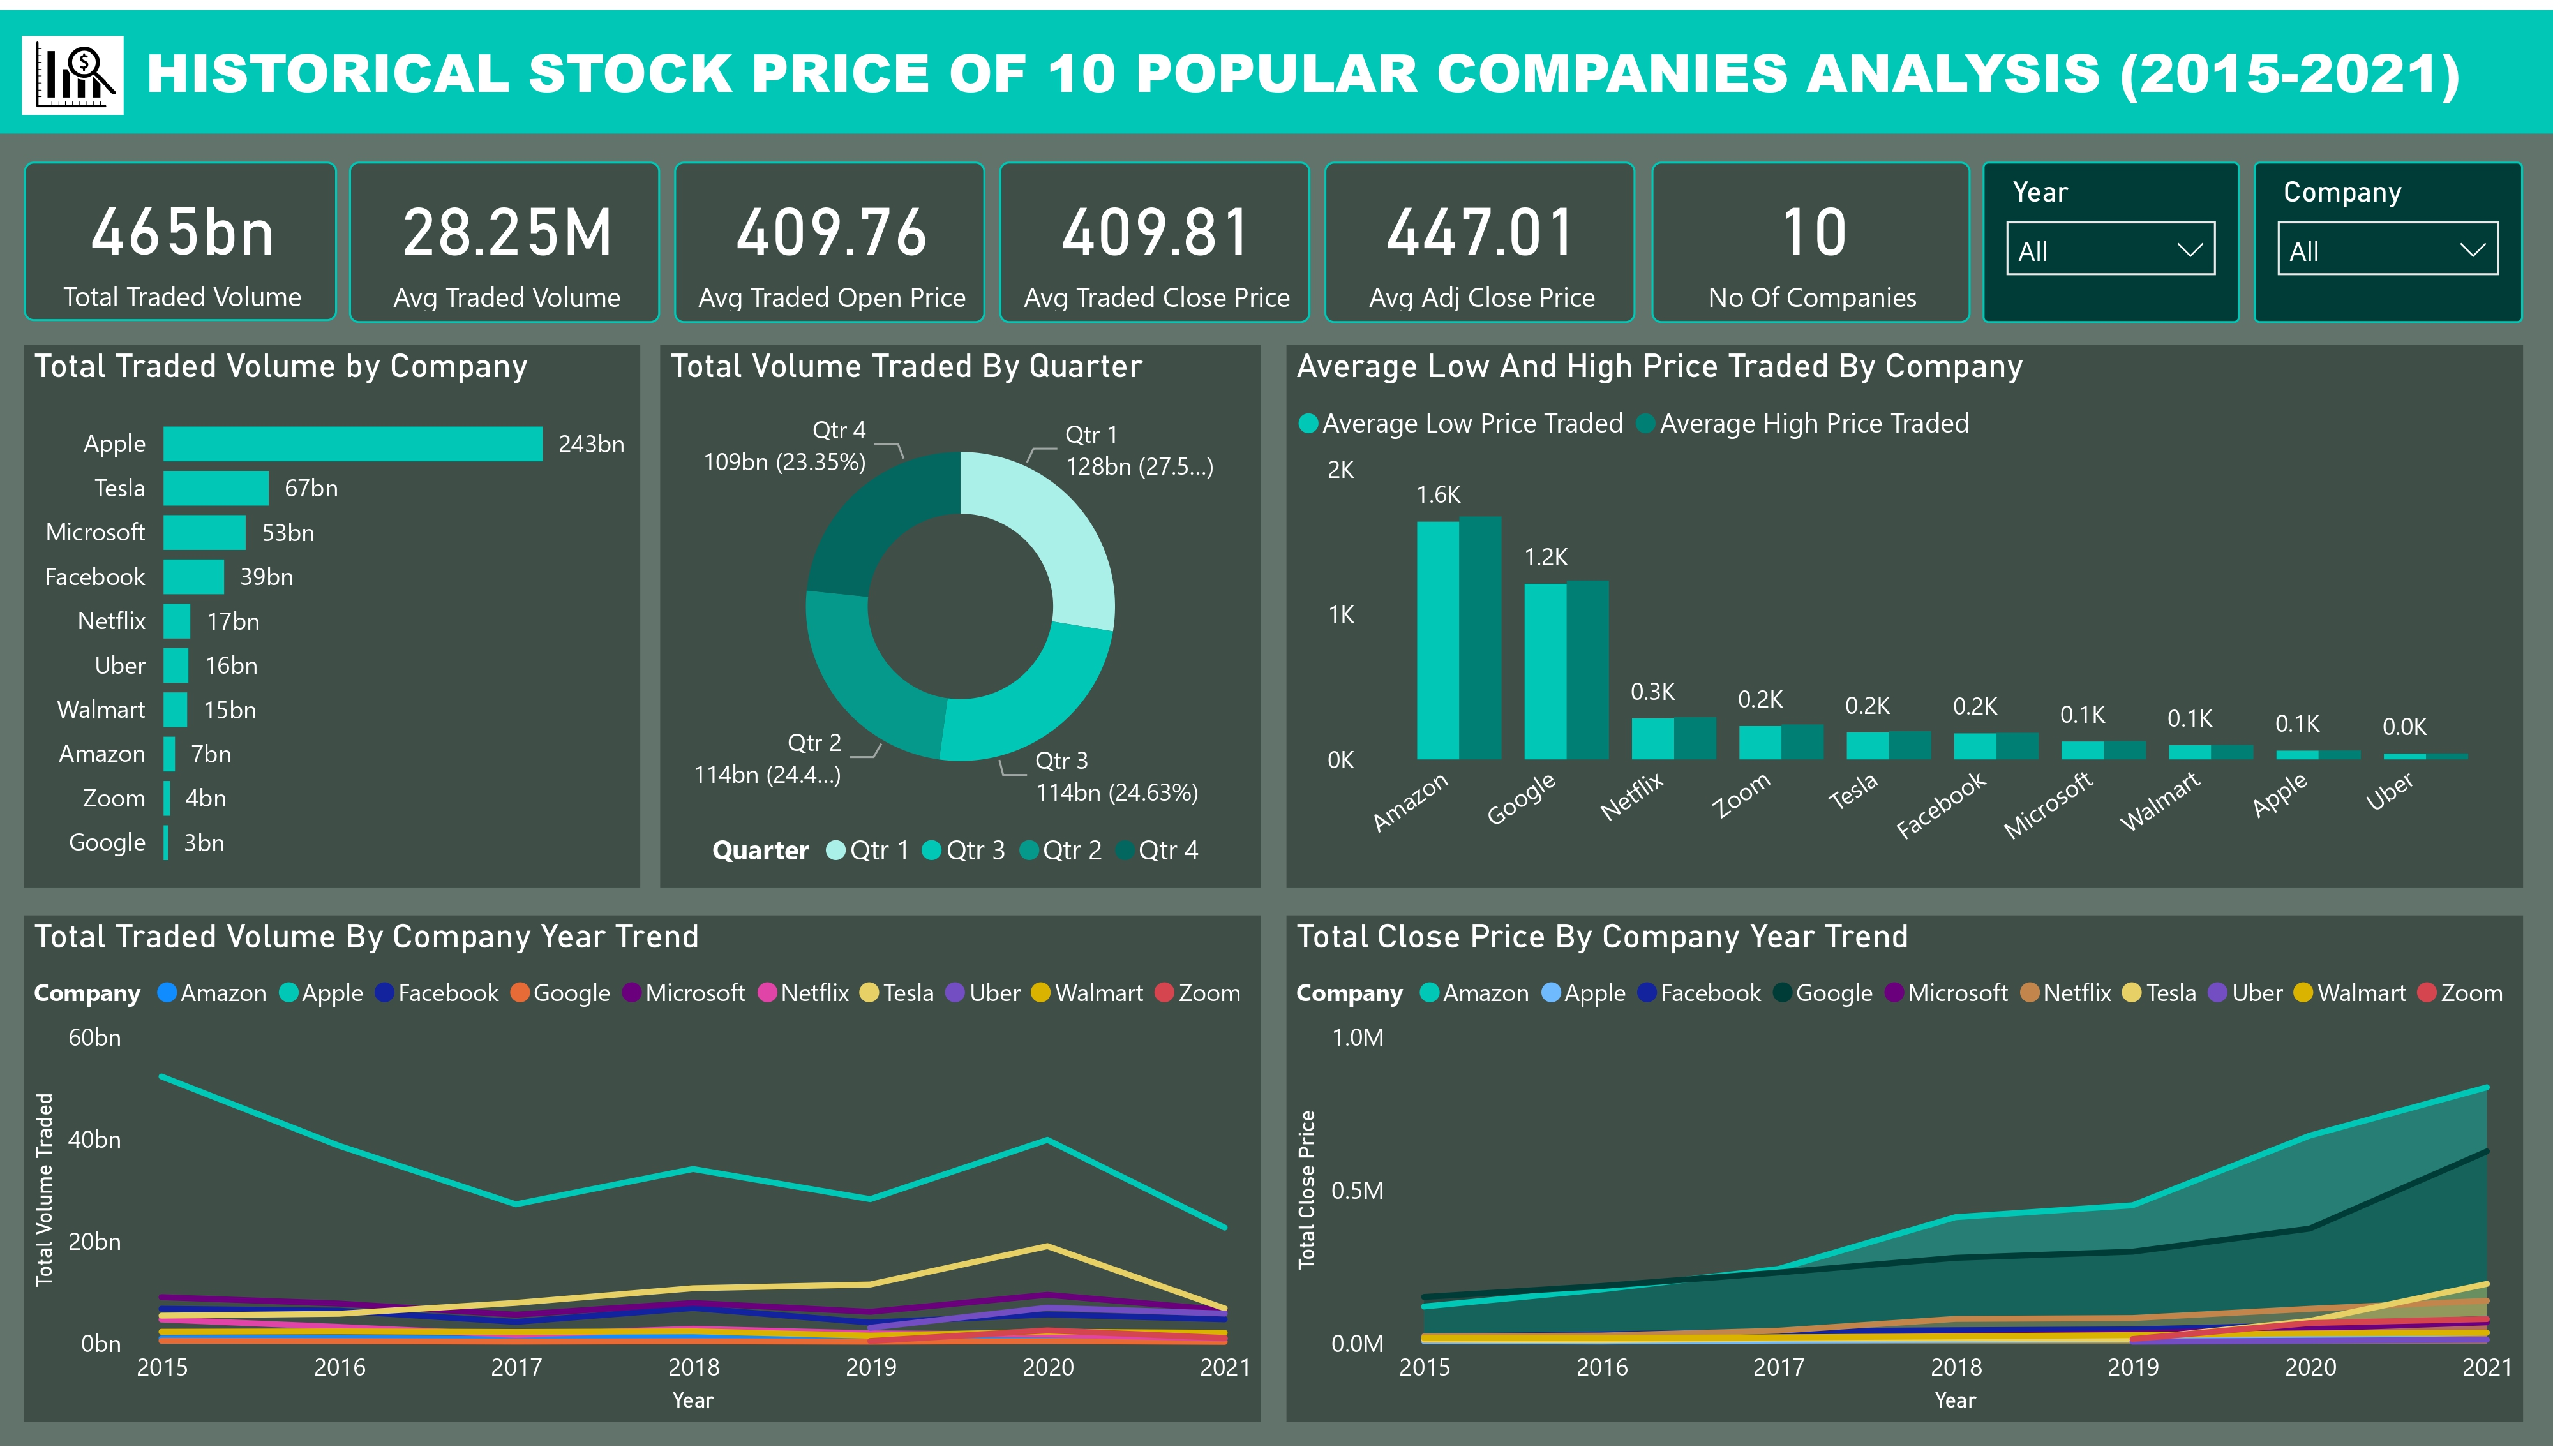

This screenshot's page, from the dashboard's own definition file:
{"tool":"powerbi","page":{"name":"Report","canvas":[1280,720],"ordinal":0},"visuals":[{"type":"shape","box":[0,0,1280,62.2],"z":0},{"type":"textbox","box":[68,7.1,1196.2,49.6],"z":1000},{"type":"card","fields":{"Values":["DAX.Total Traded Volume"]},"box":[11.8,75.6,157,80],"z":2000},{"type":"card","fields":{"Values":["DAX.Avg Traded Volume"]},"box":[174.9,75.7,156.4,80.7],"z":3000},{"type":"card","fields":{"Values":["DAX.Avg Traded Open Price"]},"box":[338.1,75.7,156.4,80.7],"z":4000},{"type":"card","fields":{"Values":["DAX.Avg Traded Close Price"]},"box":[501.2,75.7,156.4,80.7],"z":5000},{"type":"card","fields":{"Values":["DAX.No Of Companies"]},"box":[827.5,75.7,159.8,80.7],"z":6000},{"type":"barChart","fields":{"Y":["DAX.Total Traded Volume"],"Category":["Company Lookup.Company"]},"box":[11.8,168.2,309.5,272.5],"z":7000},{"type":"lineChart","title":"Total Traded Volume By Company Year Trend","fields":{"Series":["Company Lookup.Company"],"Y":["Sum(10 Companies.Volume)"],"Category":["10 Companies.Year"]},"box":[11.8,453.5,620,253.6],"z":8000},{"type":"areaChart","title":"Total Close Price By Company Year Trend","fields":{"Category":["10 Companies.Year"],"Series":["Company Lookup.Company"],"Y":["Sum(10 Companies.Close)"]},"box":[645,453.5,619.8,253.6],"z":9000},{"type":"donutChart","title":"Total Volume Traded By Quarter","fields":{"Y":["Sum(10 Companies.Volume)"],"Category":["10 Companies.Quater"]},"box":[331.4,168.2,301.1,272.5],"z":10000},{"type":"clusteredColumnChart","title":"Average Low And High Price Traded By Company","fields":{"Category":["Company Lookup.Company"],"Y":["Avg(10 Companies.Low)","Avg(10 Companies.High)"]},"box":[645,168,619.8,272.1],"z":11000},{"type":"card","fields":{"Values":["DAX.Avg Traded Adj Close Price"]},"box":[664.4,75.7,156.4,80.7],"z":12000},{"type":"slicer","fields":{"Values":["Company Lookup.Company"]},"box":[1130.3,75.7,134.6,80.7],"z":13000},{"type":"slicer","fields":{"Values":["10 Companies.Year"]},"box":[994.1,75.7,129,80.7],"z":14000},{"type":"shape","box":[11.3,12.8,51,39.7],"z":16000},{"type":"image","box":[12.8,7.1,51,49.6],"z":16001}]}

Visuals, with their boxes in screenshot pixels (x1, y1, x2, y2), scaled from the page's 1280x720 canvas onto the 2553x1456 screenshot:
shape: x1=0 y1=0 x2=2552 y2=126
textbox: x1=135 y1=15 x2=2522 y2=115
card - DAX.Total Traded Volume: x1=24 y1=153 x2=337 y2=315
card - DAX.Avg Traded Volume: x1=349 y1=153 x2=661 y2=316
card - DAX.Avg Traded Open Price: x1=675 y1=153 x2=986 y2=316
card - DAX.Avg Traded Close Price: x1=999 y1=153 x2=1312 y2=316
card - DAX.No Of Companies: x1=1651 y1=153 x2=1969 y2=316
barChart - DAX.Total Traded Volume x Company Lookup.Company: x1=24 y1=340 x2=641 y2=891
"Total Traded Volume By Company Year Trend" lineChart: x1=24 y1=917 x2=1260 y2=1430
"Total Close Price By Company Year Trend" areaChart: x1=1287 y1=917 x2=2522 y2=1430
"Total Volume Traded By Quarter" donutChart: x1=661 y1=340 x2=1262 y2=891
"Average Low And High Price Traded By Company" clusteredColumnChart: x1=1287 y1=339 x2=2522 y2=890
card - DAX.Avg Traded Adj Close Price: x1=1325 y1=153 x2=1637 y2=316
slicer - Company Lookup.Company: x1=2254 y1=153 x2=2523 y2=316
slicer - 10 Companies.Year: x1=1983 y1=153 x2=2240 y2=316
shape: x1=22 y1=26 x2=124 y2=106
image: x1=26 y1=15 x2=127 y2=115
